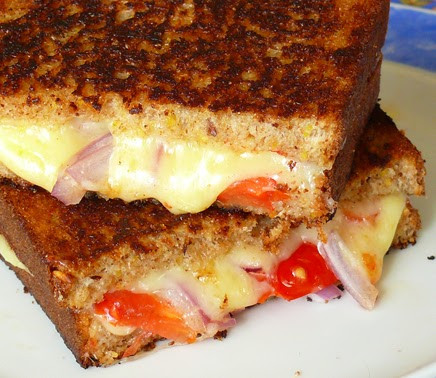cheese: (116, 137, 235, 196), (343, 211, 404, 270)
